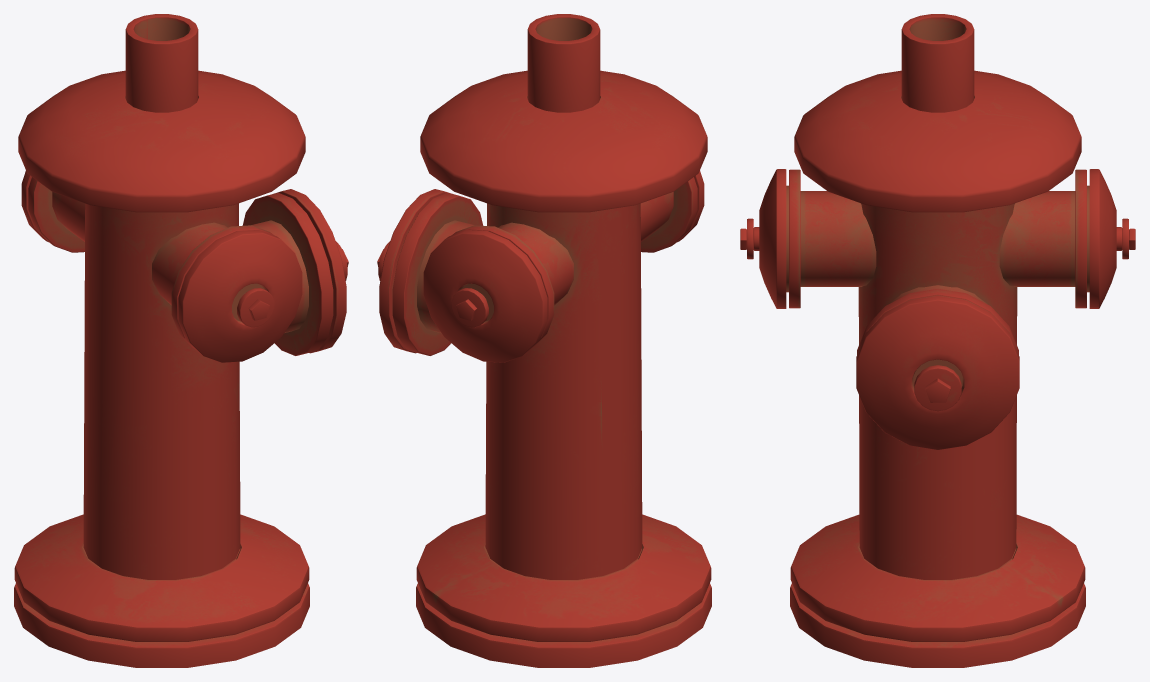
File: EQ_消防栓.fbx
3 views of the same model, side by side, from view 1: azimuth 30°, elevation 25°; view 2: azimuth 150°, elevation 25°; view 3: azimuth 270°, elevation 25° (orthographic).
Visible parts, largest first — view 1: EQ_消防栓_零件_13_001, EQ_消防栓_零件_11_001, EQ_消防栓_零件_01_001, EQ_消防栓_零件_12_001, EQ_消防栓_零件_10_001, EQ_消防栓_零件_07_001, EQ_消防栓_零件_02_001; view 2: EQ_消防栓_零件_13_001, EQ_消防栓_零件_11_001, EQ_消防栓_零件_04_001, EQ_消防栓_零件_12_001, EQ_消防栓_零件_10_001, EQ_消防栓_零件_07_001, EQ_消防栓_零件_05_001; view 3: EQ_消防栓_零件_13_001, EQ_消防栓_零件_11_001, EQ_消防栓_零件_07_001, EQ_消防栓_零件_12_001, EQ_消防栓_零件_10_001, EQ_消防栓_零件_01_001, EQ_消防栓_零件_04_001, EQ_消防栓_零件_08_001.
Part boxes in pixels (x1,y1,x2,y2): EQ_消防栓_零件_13_001: (18, 70, 333, 579); EQ_消防栓_零件_11_001: (14, 514, 309, 641); EQ_消防栓_零件_01_001: (178, 230, 302, 362); EQ_消防栓_零件_12_001: (14, 583, 309, 667); EQ_消防栓_零件_10_001: (125, 14, 198, 112); EQ_消防栓_零件_07_001: (273, 189, 346, 353); EQ_消防栓_零件_02_001: (237, 288, 274, 327); EQ_消防栓_零件_13_001: (392, 70, 707, 579); EQ_消防栓_零件_11_001: (416, 514, 711, 641); EQ_消防栓_零件_04_001: (423, 230, 547, 362); EQ_消防栓_零件_12_001: (416, 583, 711, 667); EQ_消防栓_零件_10_001: (527, 14, 600, 112); EQ_消防栓_零件_07_001: (379, 189, 452, 353); EQ_消防栓_零件_05_001: (451, 288, 488, 327); EQ_消防栓_零件_13_001: (786, 70, 1089, 579); EQ_消防栓_零件_11_001: (790, 514, 1085, 641); EQ_消防栓_零件_07_001: (856, 295, 1019, 449); EQ_消防栓_零件_12_001: (790, 583, 1085, 667); EQ_消防栓_零件_10_001: (901, 14, 974, 112); EQ_消防栓_零件_01_001: (753, 169, 786, 308); EQ_消防栓_零件_04_001: (1089, 169, 1122, 308); EQ_消防栓_零件_08_001: (914, 365, 961, 411).
Bounding box in the file's own units: 90.03 × 162 × 100.
